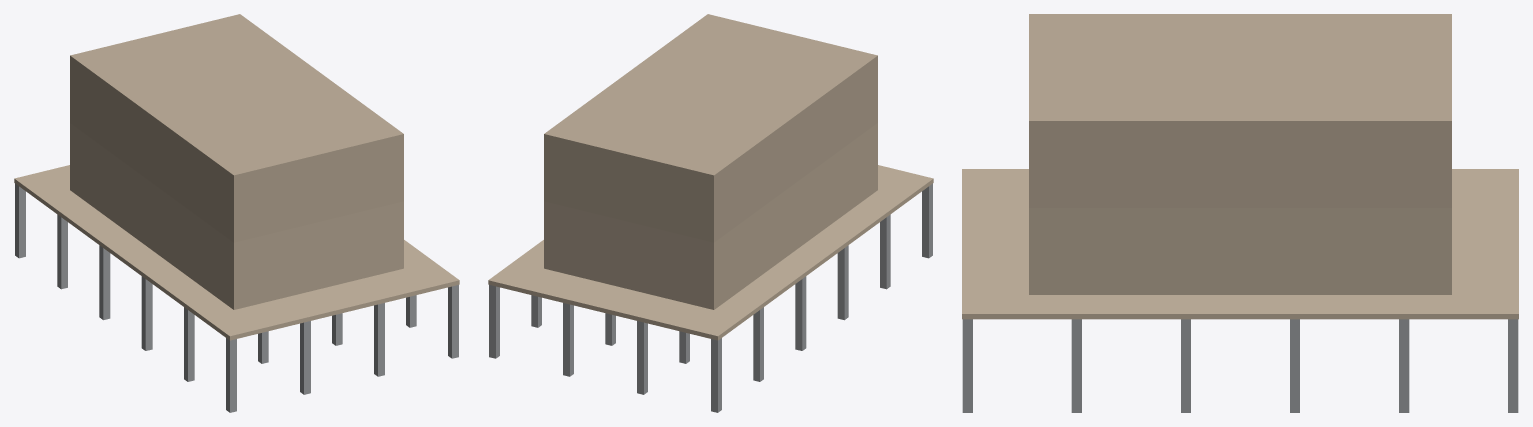
The model's file is massing.glb.
3 views of the same model, side by side, from view 1: azimuth 30°, elevation 25°; view 2: azimuth 150°, elevation 25°; view 3: azimuth 270°, elevation 25° (orthographic). The views are drawn at different scales.
Parts seen in each view (by area): view 1: main/floor3/0/0, main/floor2/0/0, main/floor1/0/0, main/floor1/column2/0, main/floor1/column3/0, main/floor1/column0/0, main/floor1/column6/0, main/floor1/column12/0, main/floor1/column18/0, main/floor1/column4/0, main/floor1/column1/0, main/floor1/column5/0; view 2: main/floor3/0/0, main/floor2/0/0, main/floor1/0/0, main/floor1/column3/0, main/floor1/column2/0, main/floor1/column5/0, main/floor1/column11/0, main/floor1/column17/0, main/floor1/column23/0, main/floor1/column1/0, main/floor1/column0/0, main/floor1/column4/0; view 3: main/floor3/0/0, main/floor2/0/0, main/floor1/0/0, main/floor1/column18/0, main/floor1/column19/0, main/floor1/column22/0, main/floor1/column23/0, main/floor1/column20/0, main/floor1/column21/0.
Part boxes in pixels (<box>): main/floor3/0/0: <box>70,14,403,242</box>; main/floor2/0/0: <box>70,123,403,309</box>; main/floor1/0/0: <box>14,165,459,340</box>; main/floor1/column2/0: <box>141,276,152,350</box>; main/floor1/column3/0: <box>99,245,110,320</box>; main/floor1/column0/0: <box>226,338,236,412</box>; main/floor1/column6/0: <box>300,321,310,394</box>; main/floor1/column12/0: <box>374,303,384,376</box>; main/floor1/column18/0: <box>448,285,458,358</box>; main/floor1/column4/0: <box>57,214,67,289</box>; main/floor1/column1/0: <box>184,307,194,381</box>; main/floor1/column5/0: <box>15,183,25,258</box>; main/floor3/0/0: <box>544,14,877,242</box>; main/floor2/0/0: <box>544,123,877,309</box>; main/floor1/0/0: <box>488,165,933,340</box>; main/floor1/column3/0: <box>795,276,806,350</box>; main/floor1/column2/0: <box>837,245,848,320</box>; main/floor1/column5/0: <box>711,338,721,412</box>; main/floor1/column11/0: <box>637,321,647,394</box>; main/floor1/column17/0: <box>563,303,573,376</box>; main/floor1/column23/0: <box>489,285,499,358</box>; main/floor1/column1/0: <box>880,214,890,289</box>; main/floor1/column0/0: <box>922,183,932,258</box>; main/floor1/column4/0: <box>753,307,763,381</box>; main/floor3/0/0: <box>1029,14,1451,207</box>; main/floor2/0/0: <box>1029,208,1451,294</box>; main/floor1/0/0: <box>962,169,1518,319</box>; main/floor1/column18/0: <box>962,319,972,412</box>; main/floor1/column19/0: <box>1071,319,1081,412</box>; main/floor1/column22/0: <box>1399,319,1409,412</box>; main/floor1/column23/0: <box>1508,319,1518,412</box>; main/floor1/column20/0: <box>1181,319,1190,412</box>; main/floor1/column21/0: <box>1290,319,1299,412</box>.
Size of the model in its own units: 10 by 8.8 by 16.25.
